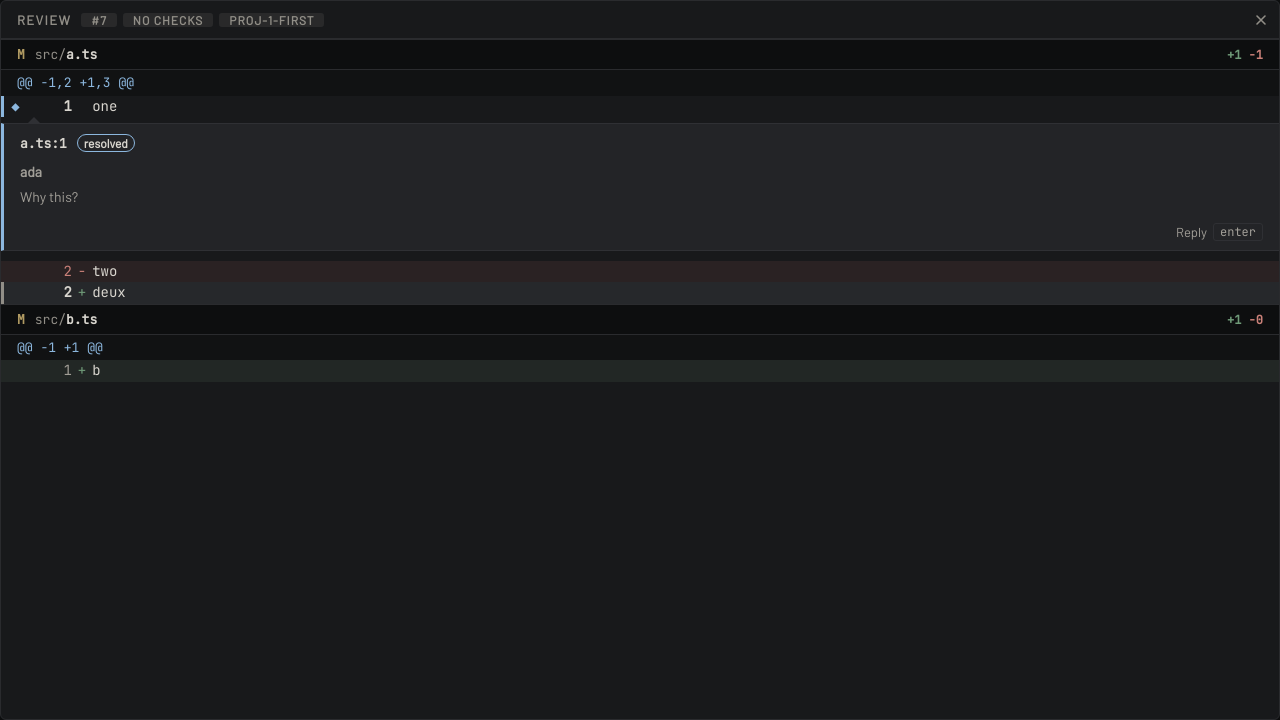
the diff of a review › opens the reply box on a click on Reply, resolved thread included, moving neither the cursor nor the focus
Click the button with aria-label "Reply to the thread on a.ts:1" at (1220, 232), box [1176, 220, 1263, 244]
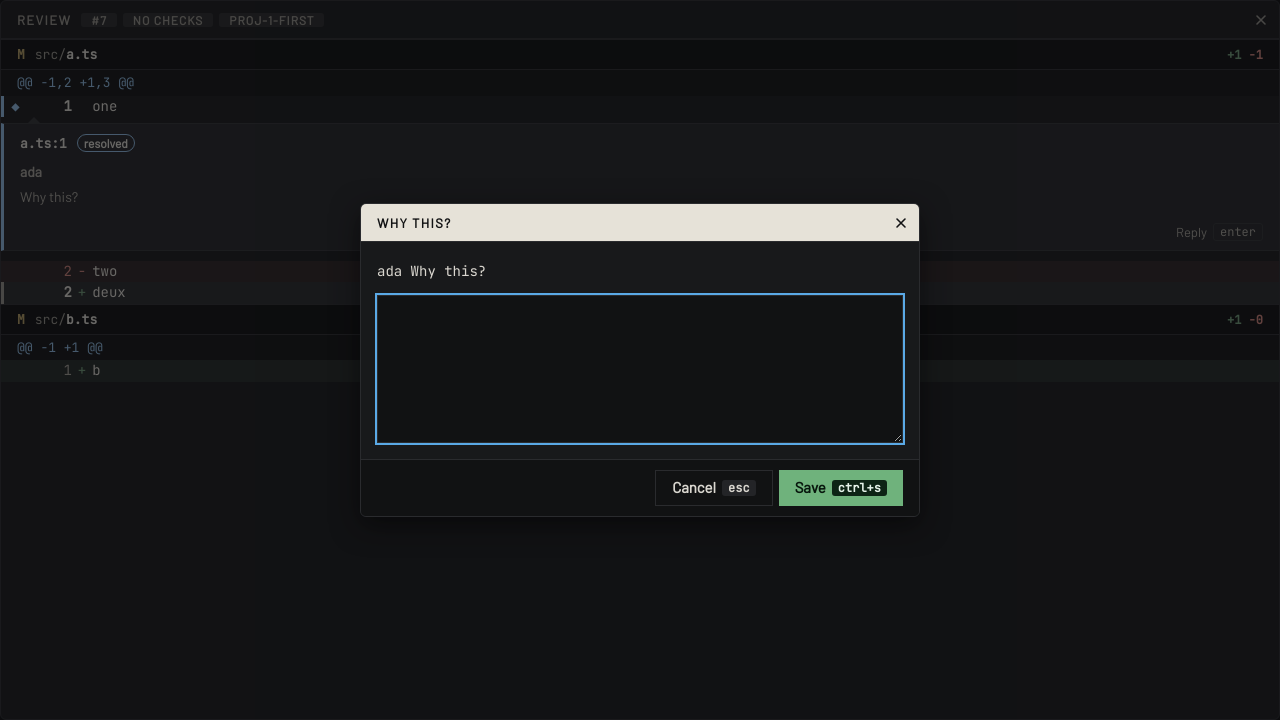
Now the dialog "Why this?" is shown, box [360, 203, 920, 517]
